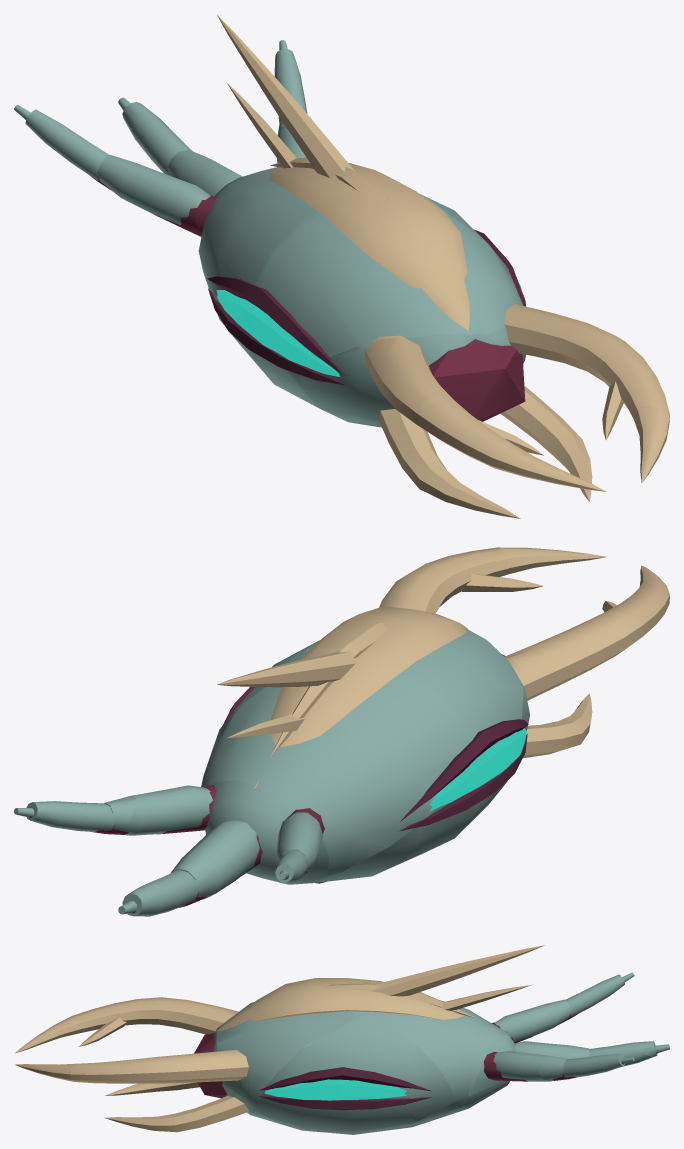
The model's file is brood_v2_wreck.glb.
The picture shows the model from 3 angles, top to bottom: view 1: azimuth 30°, elevation 25°; view 2: azimuth 150°, elevation 25°; view 3: azimuth 270°, elevation 25°; orthographic projection. The views are drawn at different scales.
Parts seen in each view (by area): view 1: brood_v2_wreck_03, brood_v2_wreck_00, brood_v2_wreck_02, brood_v2_wreck_01, brood_v2_wreck_05, brood_v2_wreck_04, brood_v2_wreck_06, brood_v2_wreck_08, brood_v2_wreck_07, brood_v2_wreck_09; view 2: brood_v2_wreck_02, brood_v2_wreck_01, brood_v2_wreck_03, brood_v2_wreck_00, brood_v2_wreck_06, brood_v2_wreck_05, brood_v2_wreck_04, brood_v2_wreck_07, brood_v2_wreck_08, brood_v2_wreck_09; view 3: brood_v2_wreck_09, brood_v2_wreck_03, brood_v2_wreck_02, brood_v2_wreck_01, brood_v2_wreck_05, brood_v2_wreck_00, brood_v2_wreck_04, brood_v2_wreck_07, brood_v2_wreck_08, brood_v2_wreck_06.
Boxes of the visible parts, x1,y1,x2,y2 form: brood_v2_wreck_03: (245,173,526,377); brood_v2_wreck_00: (292,334,561,514); brood_v2_wreck_02: (195,87,395,302); brood_v2_wreck_01: (14,102,306,236); brood_v2_wreck_05: (488,307,669,492); brood_v2_wreck_04: (417,394,669,518); brood_v2_wreck_06: (212,298,351,422); brood_v2_wreck_08: (216,14,283,124); brood_v2_wreck_07: (118,40,307,132); brood_v2_wreck_09: (421,194,525,306); brood_v2_wreck_02: (201,642,481,877); brood_v2_wreck_01: (123,780,329,916); brood_v2_wreck_03: (306,606,526,775); brood_v2_wreck_00: (494,610,644,797); brood_v2_wreck_06: (264,755,511,884); brood_v2_wreck_05: (379,547,515,613); brood_v2_wreck_04: (499,547,669,702); brood_v2_wreck_07: (14,795,135,914); brood_v2_wreck_08: (217,666,283,738); brood_v2_wreck_09: (212,644,312,750); brood_v2_wreck_09: (257,1014,454,1133); brood_v2_wreck_03: (215,978,370,1109); brood_v2_wreck_02: (363,962,494,1104); brood_v2_wreck_01: (464,972,657,1107); brood_v2_wreck_05: (69,1043,243,1132); brood_v2_wreck_00: (119,997,280,1129); brood_v2_wreck_04: (14,999,141,1120); brood_v2_wreck_07: (538,1042,669,1080); brood_v2_wreck_08: (465,945,544,998); brood_v2_wreck_06: (320,1103,469,1134).
Size of the model in its own units: 1.59 by 1.59 by 5.1.
